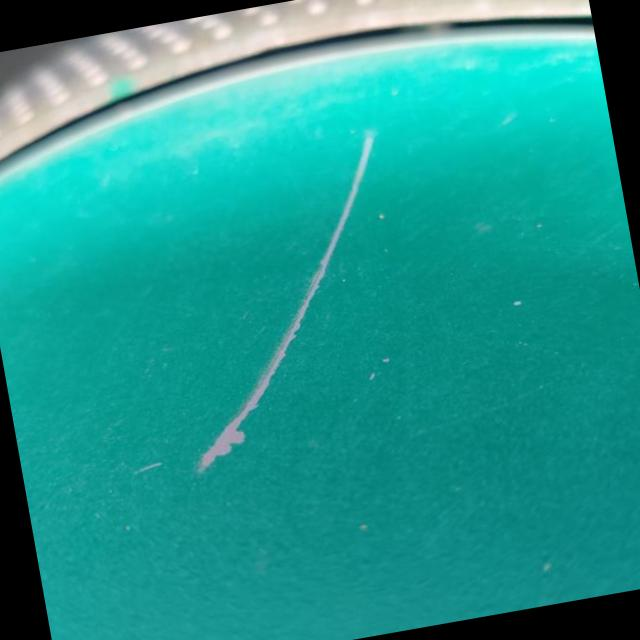Scratch: (201, 130, 376, 468)
